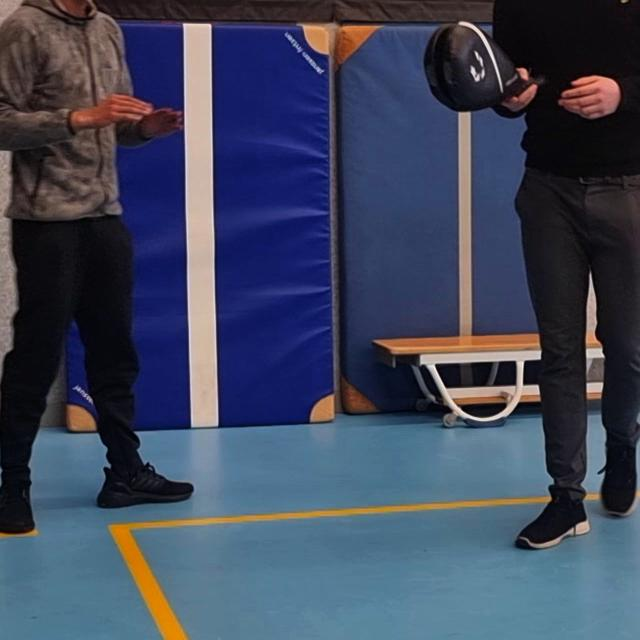paddle: (422, 20, 533, 112)
